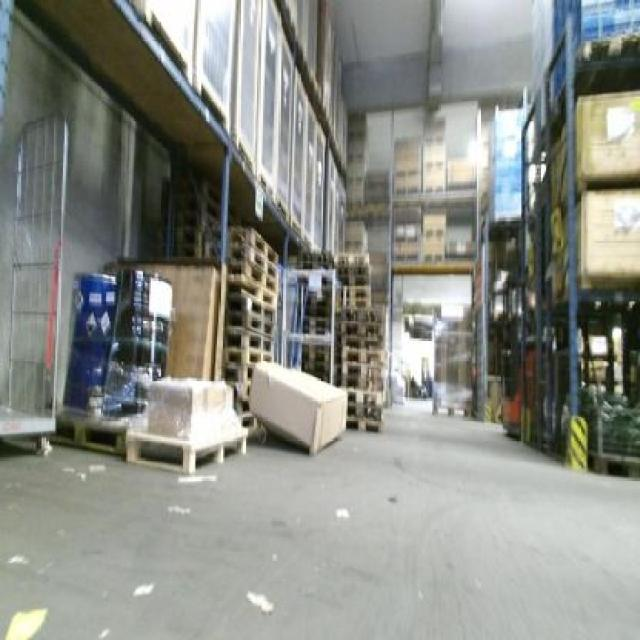floor: (0, 400, 637, 637)
pallets: (125, 377, 245, 471), (248, 362, 345, 451)
